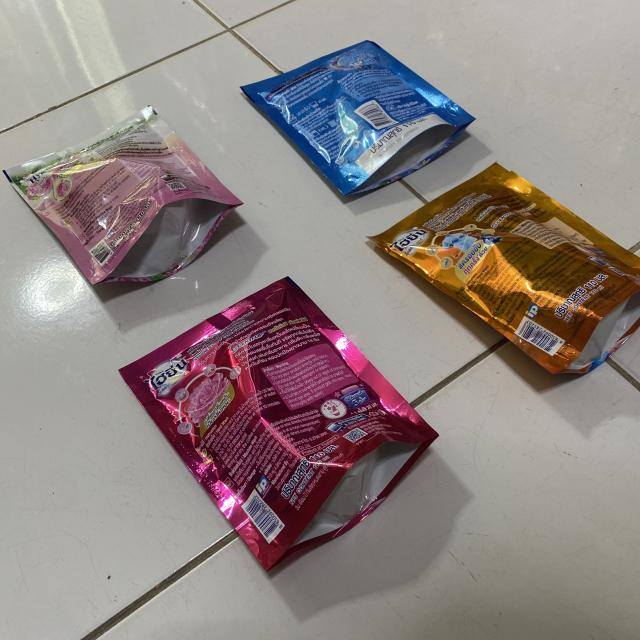plastik: (121, 277, 436, 570), (370, 163, 640, 374), (4, 107, 241, 284), (243, 41, 474, 194)
